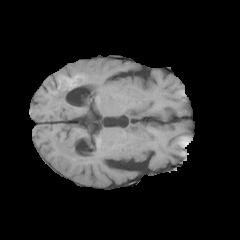glioma: (47, 76, 100, 173)
